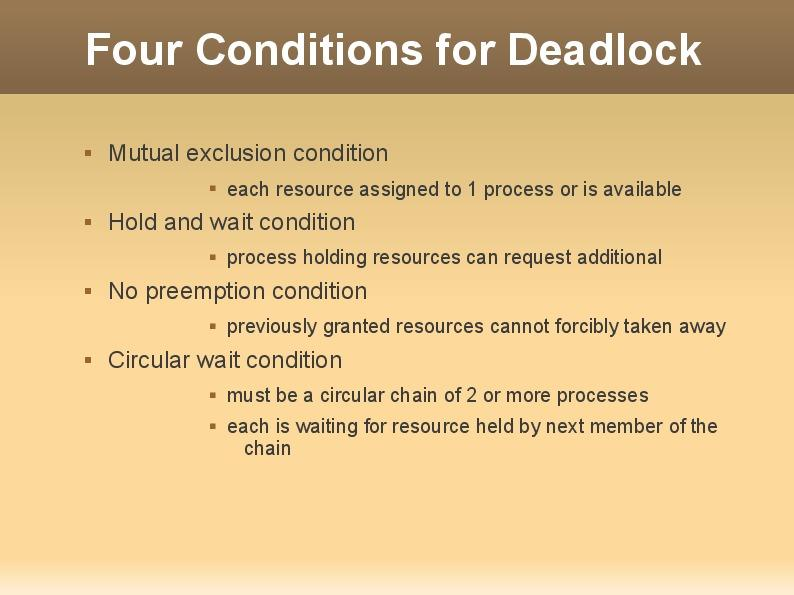paragraph: (72, 118, 764, 477)
title: (72, 13, 716, 81)
